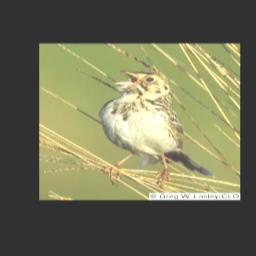Sparrow: (96, 67, 221, 187)
